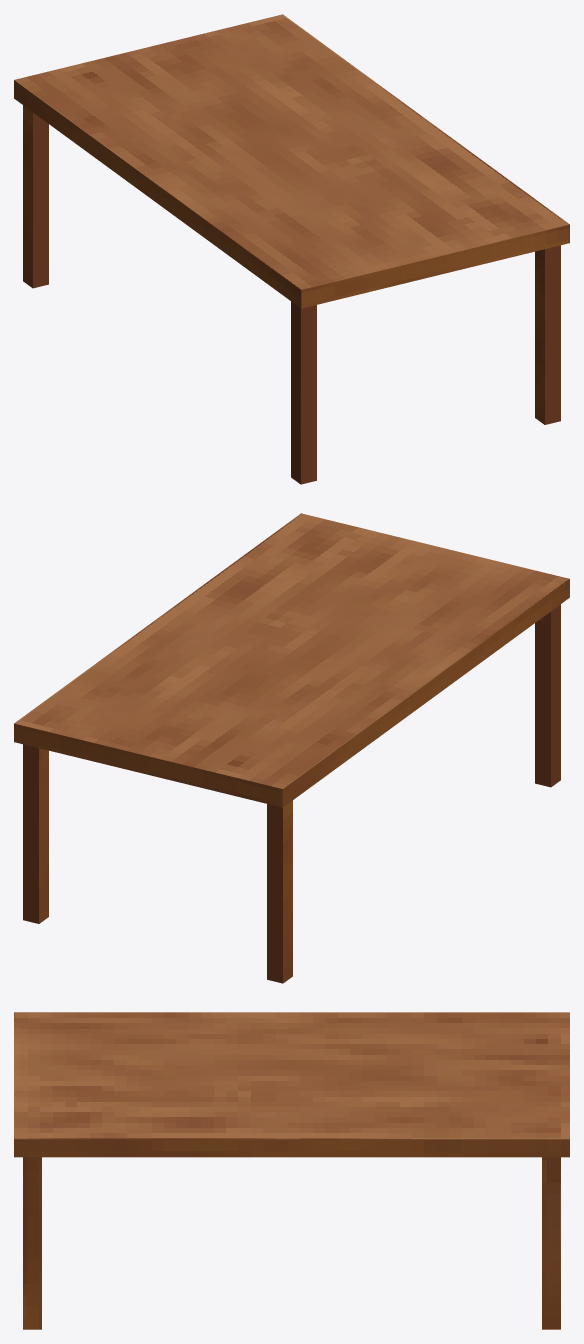
The model's file is tahta_masa.fbx.
3 renders of one model, top to bottom at view 1: azimuth 30°, elevation 25°; view 2: azimuth 150°, elevation 25°; view 3: azimuth 270°, elevation 25°, orthographic. The views are drawn at different scales.
Parts seen in each view (by area): view 1: Plane.001; view 2: Plane.001; view 3: Plane.001.
Boxes of the visible parts, x1=… form: Plane.001: x1=14, y1=14, x2=569, y2=484; Plane.001: x1=14, y1=513, x2=569, y2=983; Plane.001: x1=14, y1=1012, x2=569, y2=1329.
Bounding box in the file's own units: 3.44 × 2.43 × 6.36.
Materials: 1 (1 with a texture image).
